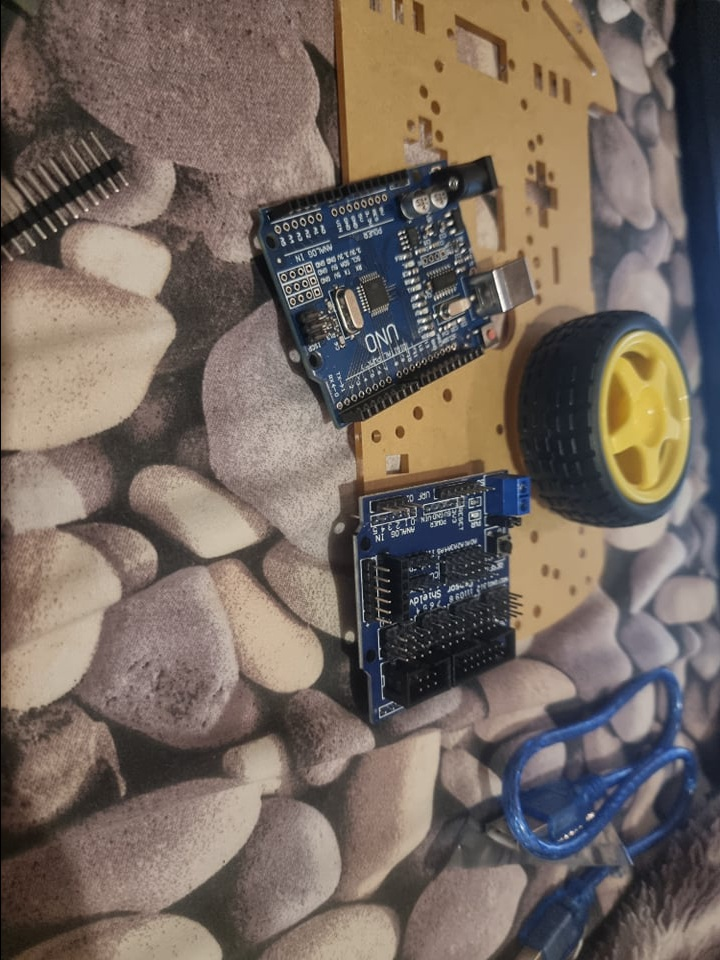5V EXPANSION: (354, 471, 533, 722)
UNO R3: (251, 152, 533, 428)
